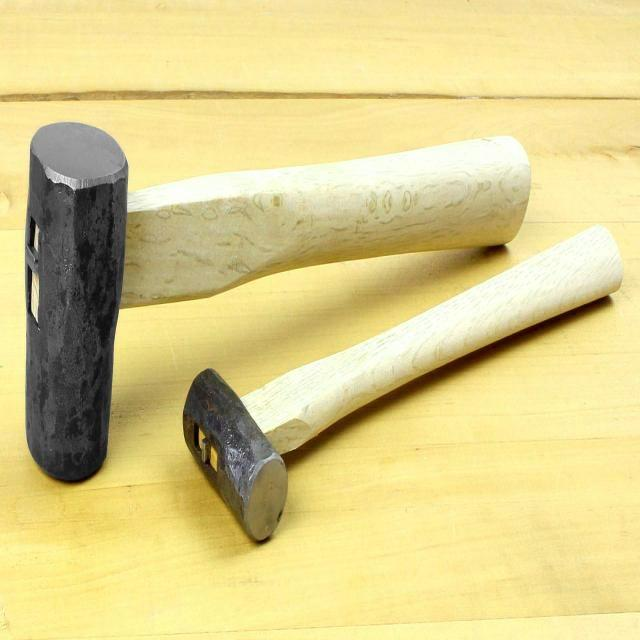hammer: (15, 113, 541, 493), (178, 216, 626, 548)
